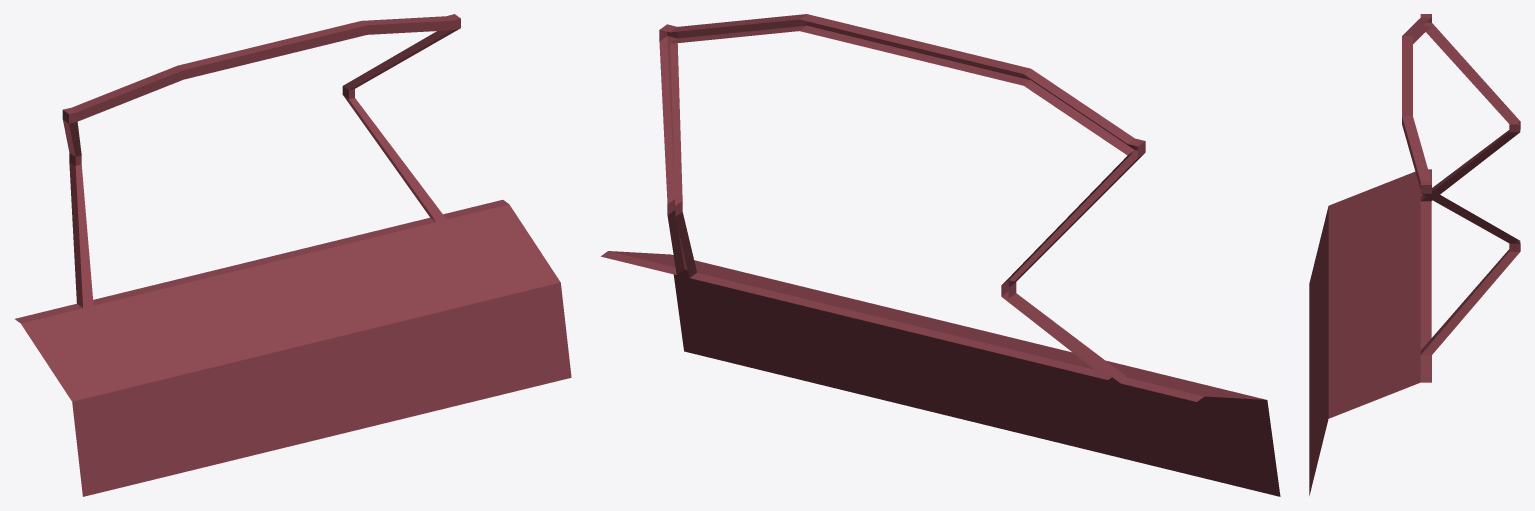
File: cockpit1.glb
The picture shows the model from 3 angles, left to right: view 1: azimuth 30°, elevation 25°; view 2: azimuth 150°, elevation 25°; view 3: azimuth 270°, elevation 25°; orthographic projection. The views are drawn at different scales.
Visible parts, largest first — view 1: Plane, radar-holo, shields-status, info-speed-pitch, weapons-status; view 2: Plane, radar-holo, info-speed-pitch, shields-status; view 3: Plane, radar-holo, info-speed-pitch, shields-status, weapons-status.
Part boxes in pixels (left/top/right/bottom): Plane: left=15, top=14, right=571, bottom=496; radar-holo: left=214, top=266, right=378, bottom=357; shields-status: left=120, top=296, right=253, bottom=380; info-speed-pitch: left=338, top=243, right=472, bottom=326; weapons-status: left=109, top=279, right=213, bottom=318; Plane: left=601, top=14, right=1280, bottom=496; radar-holo: left=845, top=306, right=1043, bottom=345; info-speed-pitch: left=730, top=278, right=891, bottom=308; shields-status: left=997, top=343, right=1158, bottom=373; Plane: left=1309, top=14, right=1520, bottom=495; radar-holo: left=1328, top=257, right=1400, bottom=338; info-speed-pitch: left=1328, top=311, right=1400, bottom=380; shields-status: left=1328, top=216, right=1400, bottom=284; weapons-status: left=1400, top=208, right=1420, bottom=256.
Bounding box in the file's own units: 11.89 × 8.18 × 4.98.
